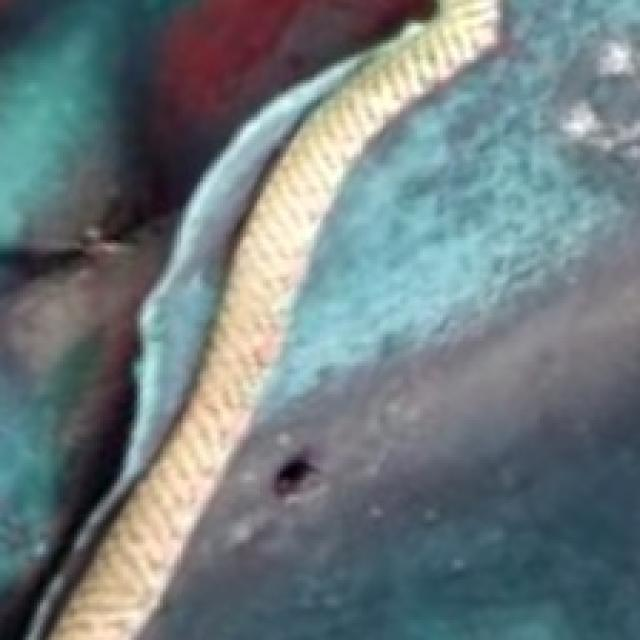paradise tree snake: (143, 3, 637, 637)
